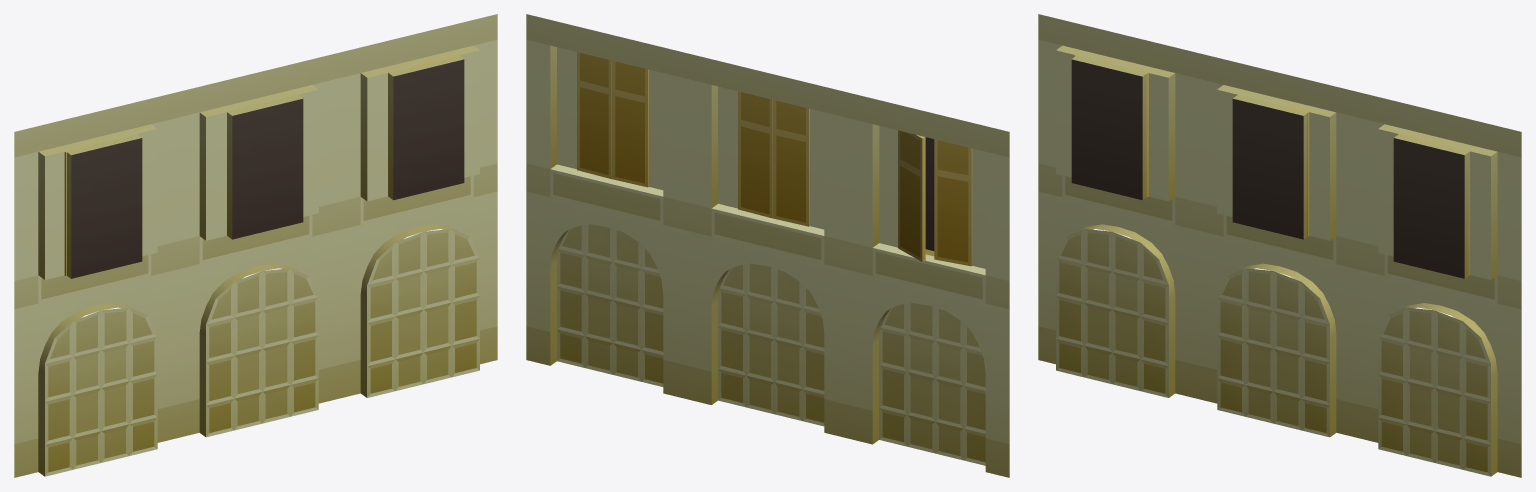
Rendered from SM_Rich_Facade_01.fbx.
3 views of the same model, side by side, from view 1: azimuth 30°, elevation 25°; view 2: azimuth 150°, elevation 25°; view 3: azimuth 330°, elevation 25° (orthographic).
Visible parts, largest first — view 1: SM_Rich_Facade_01; view 2: SM_Rich_Facade_01; view 3: SM_Rich_Facade_01.
Boxes of the visible parts, x1,y1,x2,y2 form: SM_Rich_Facade_01: [14, 14, 497, 477]; SM_Rich_Facade_01: [526, 14, 1009, 477]; SM_Rich_Facade_01: [1038, 14, 1521, 477].
Size of the model in its own units: 9 by 6.16 by 0.456.
